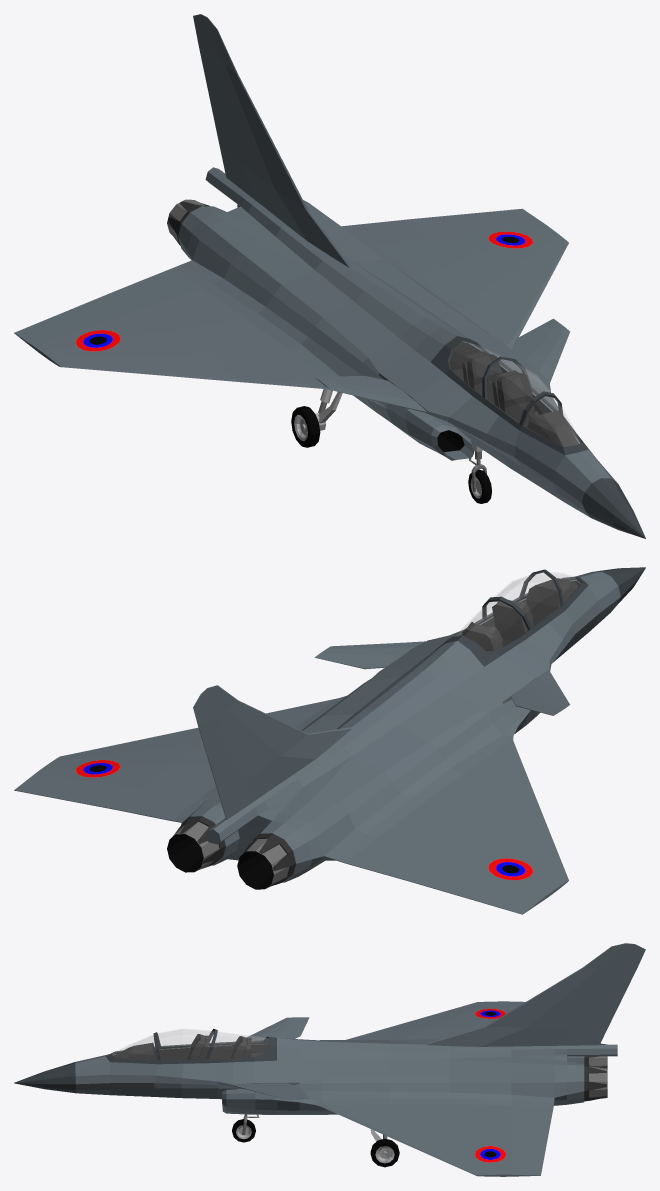
The picture shows the model from 3 angles, top to bottom: view 1: azimuth 30°, elevation 25°; view 2: azimuth 150°, elevation 25°; view 3: azimuth 270°, elevation 25°; orthographic projection. The views are drawn at different scales.
Visible parts, largest first — view 1: Circle, Circle.005, Circle.003, Circle.004, Circle.011, Circle.008, Circle.001, Circle.002, Landing gear_RL.001, Circle.012, Landing gear_F; view 2: Circle, Circle.005, Circle.003, Circle.004, Circle.011, Circle.002, Circle.008, Circle.012, Circle.001; view 3: Circle, Circle.005, Circle.004, Circle.011, Circle.012, Circle.001, Circle.008, Landing gear_RL, Landing gear_F.
Boxes of the visible parts, x1,y1,x2,y2 form: Circle: (34, 14, 645, 538); Circle.005: (431, 336, 559, 429); Circle.003: (14, 291, 141, 348); Circle.004: (199, 46, 252, 197); Circle.011: (410, 208, 542, 236); Circle.008: (511, 318, 570, 382); Circle.001: (315, 375, 427, 413); Circle.002: (116, 268, 201, 308); Landing gear_RL.001: (291, 389, 342, 447); Circle.012: (346, 219, 435, 245); Landing gear_F: (468, 443, 491, 503); Circle: (35, 567, 645, 900); Circle.005: (433, 569, 564, 666); Circle.003: (409, 860, 542, 914); Circle.004: (198, 717, 255, 819); Circle.011: (14, 774, 141, 809); Circle.002: (346, 839, 435, 881); Circle.008: (314, 641, 425, 669); Circle.012: (115, 788, 201, 820); Circle.001: (511, 671, 569, 715); Circle: (14, 943, 645, 1176); Circle.005: (155, 1028, 276, 1064); Circle.004: (560, 967, 637, 1045); Circle.011: (511, 1130, 548, 1176); Circle.012: (511, 1105, 553, 1130); Circle.001: (246, 1017, 309, 1040); Circle.008: (233, 1083, 309, 1099); Landing gear_RL: (370, 1129, 399, 1167); Landing gear_F: (232, 1114, 259, 1142).
Bounding box in the file's own units: 994 × 531 × 1533.
